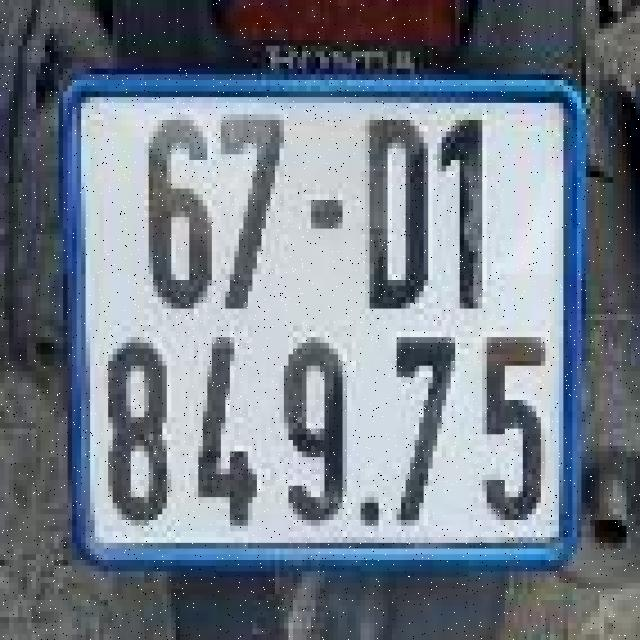1: (433, 105, 509, 328)
4: (174, 314, 264, 532)
5: (474, 320, 554, 537)
6: (133, 91, 219, 320)
7: (218, 97, 300, 314), (388, 320, 455, 537)
8: (97, 326, 173, 543)
9: (282, 326, 344, 537)
D: (350, 106, 440, 317)
